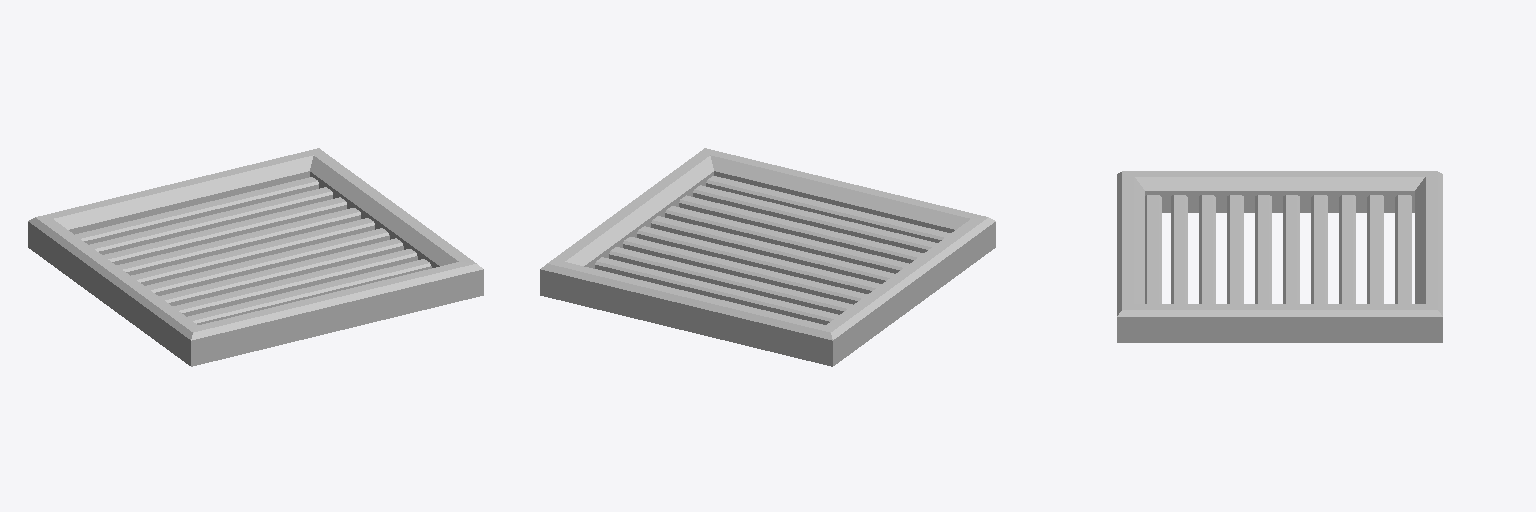
3 renders of one model, left to right at view 1: azimuth 30°, elevation 25°; view 2: azimuth 150°, elevation 25°; view 3: azimuth 270°, elevation 25°, orthographic.
Visible parts, largest first — view 1: grid Hub; view 2: grid Hub; view 3: grid Hub.
Boxes of the visible parts, <box> form: grid Hub: <box>28,148,483,366</box>; grid Hub: <box>540,148,995,366</box>; grid Hub: <box>1117,171,1442,342</box>.
Size of the model in its own units: 5.53 by 0.5654 by 5.33.